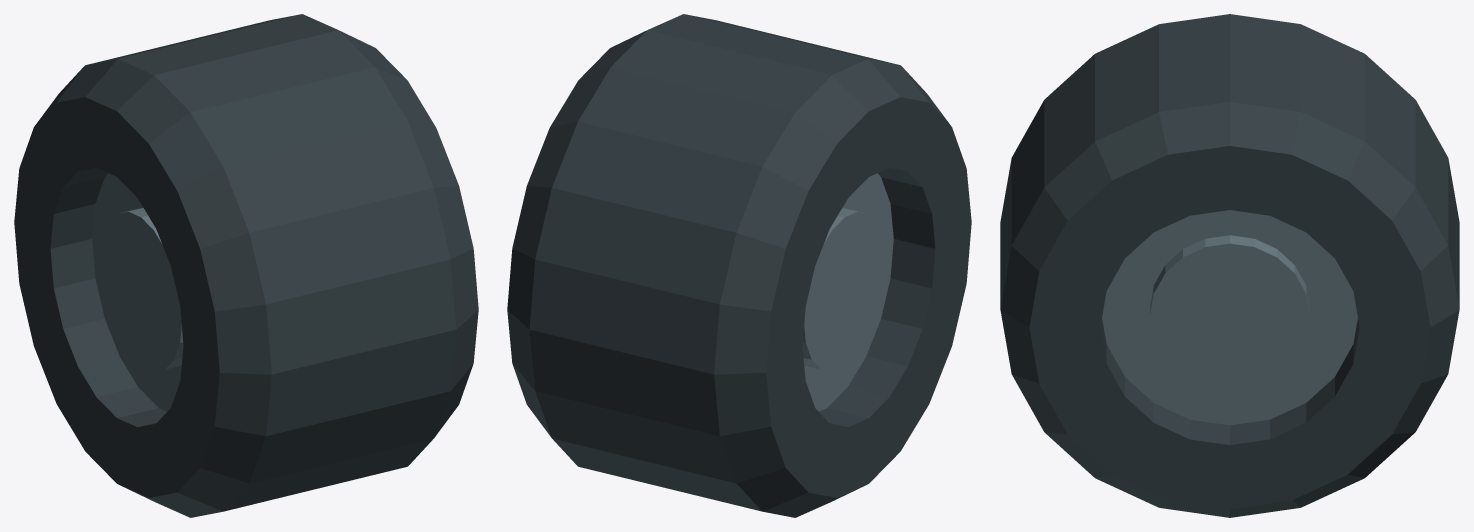
File: Wheel.fbx
3 views of the same model, side by side, from view 1: azimuth 30°, elevation 25°; view 2: azimuth 150°, elevation 25°; view 3: azimuth 270°, elevation 25° (orthographic). The views are drawn at different scales.
Visible parts, largest first — view 1: Car_03.001; view 2: Car_03.001; view 3: Car_03.001.
Boxes of the visible parts, x1,y1,x2,y2 form: Car_03.001: (14,14,478,517); Car_03.001: (507,14,971,517); Car_03.001: (1000,14,1459,517).
Bounding box in the file's own units: 118 × 186 × 186.
